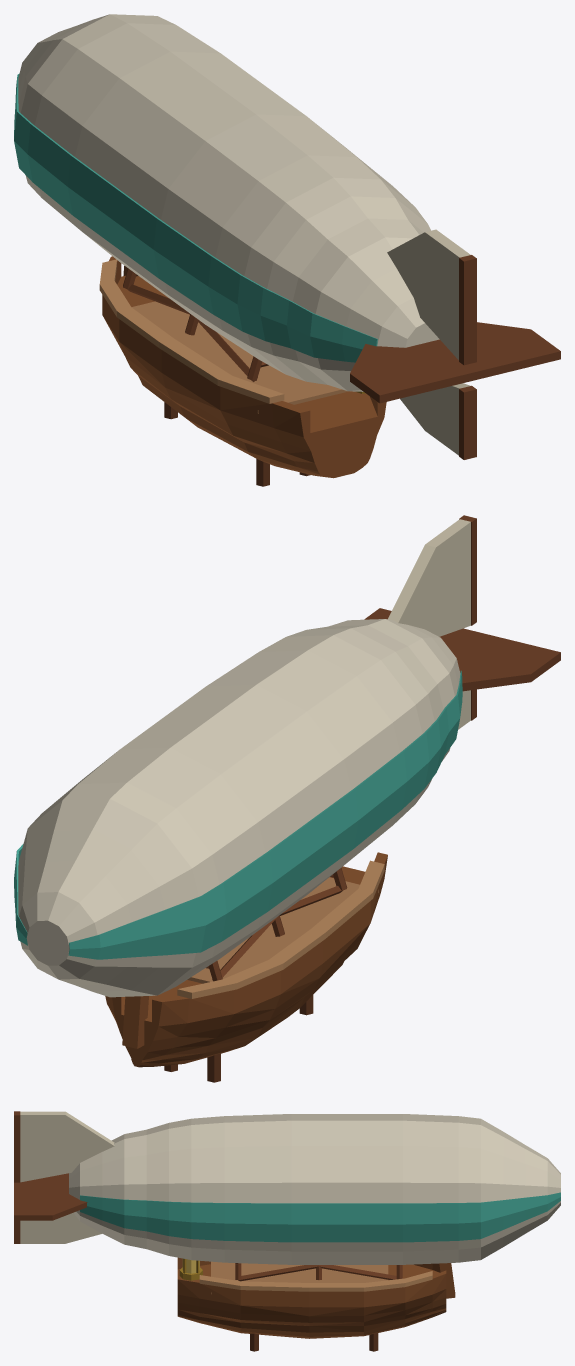
3 renders of one model, top to bottom at view 1: azimuth 30°, elevation 25°; view 2: azimuth 150°, elevation 25°; view 3: azimuth 270°, elevation 25°, orthographic. The views are drawn at different scales.
Bounding box in the file's own units: 2.99 × 4.94 × 10.68.
